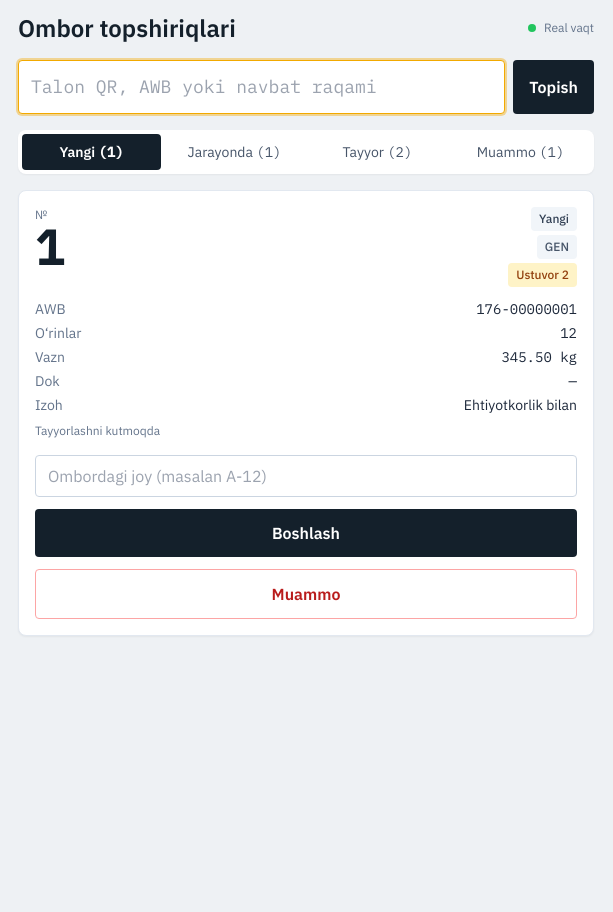
Scenario: WarehousePage › finds a task by scanning, whichever tab is open
This screenshot has width=613, height=912.
Expected: the element with test id "task-1" is shown, [18,190,594,636]
Type "176-00000005" into the field named "Skanerlash".
click(262, 87); type("176-00000005")  # box [18,60,505,114]
Then press Enter
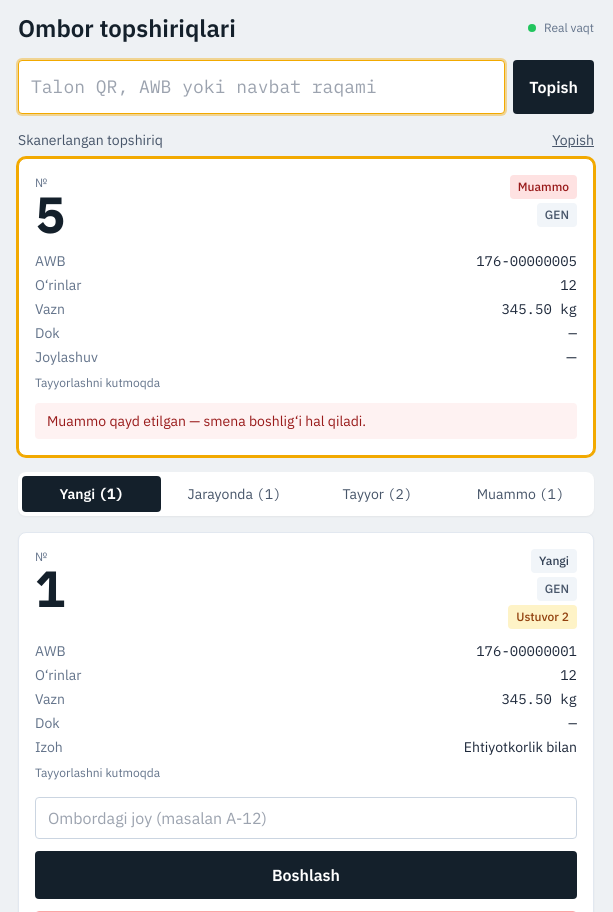
Expected: the element with test id "task-5" is shown, [18,158,594,456]
